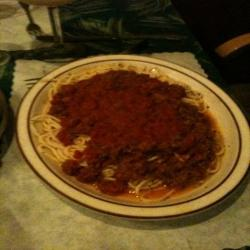bolonese_pasta: (25, 53, 239, 214)
